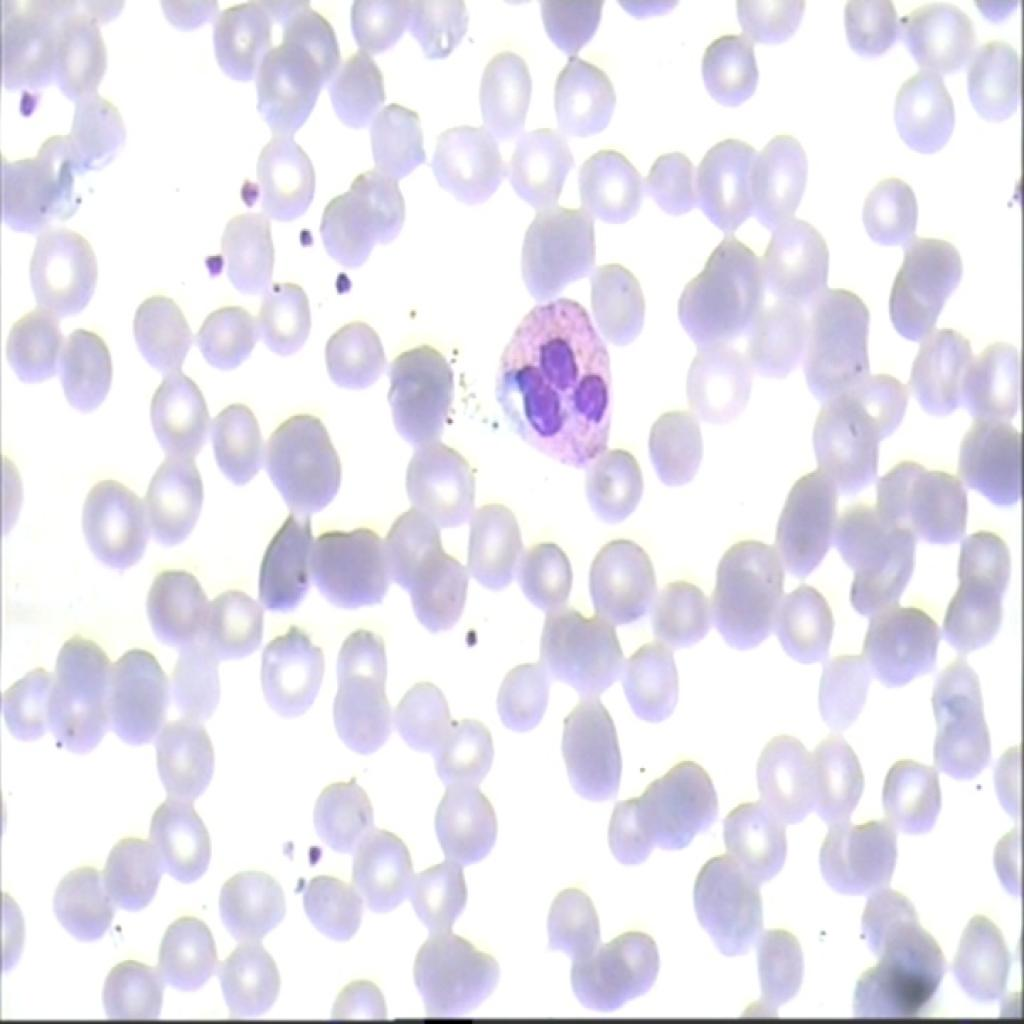Neutrofil: (483, 292, 623, 482), (455, 618, 491, 666), (282, 208, 322, 244), (229, 169, 265, 208), (189, 252, 223, 290), (327, 265, 354, 300), (300, 828, 320, 868), (13, 78, 33, 114)
